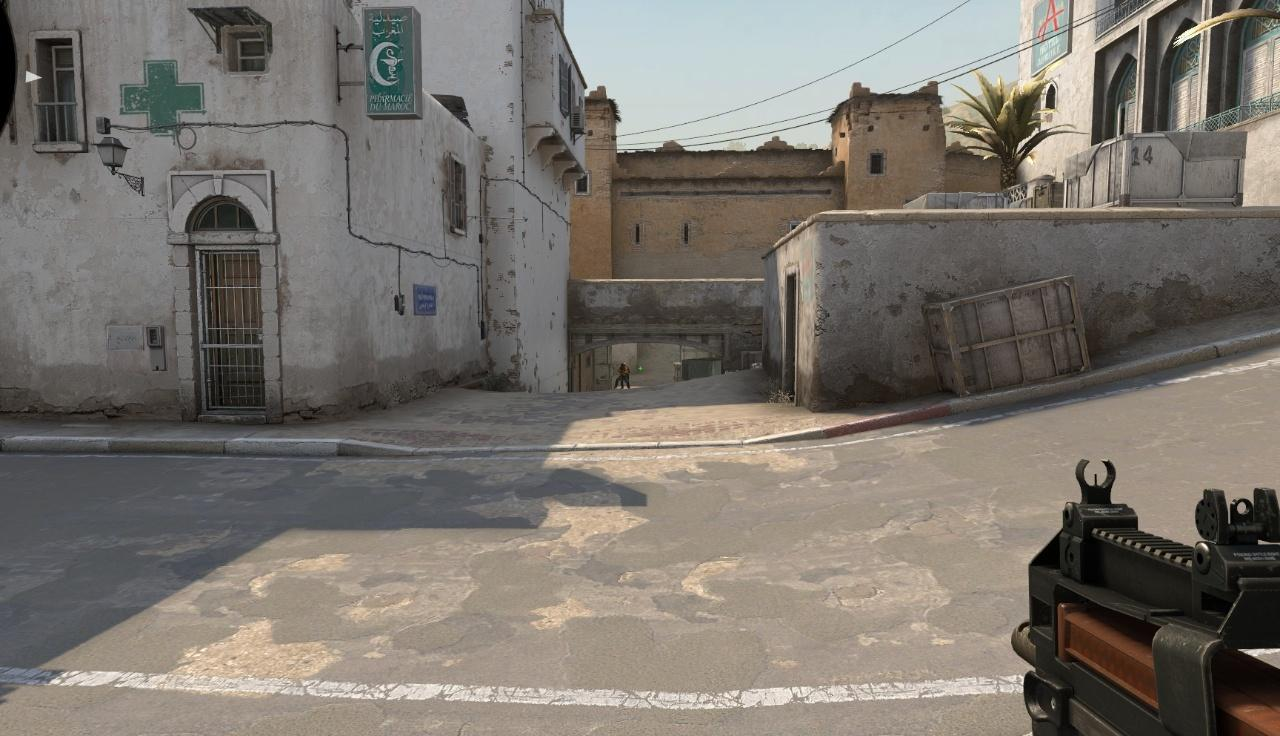rifle: (1011, 459, 1280, 736)
tt: (615, 363, 628, 389)
tthead: (621, 364, 624, 368)
